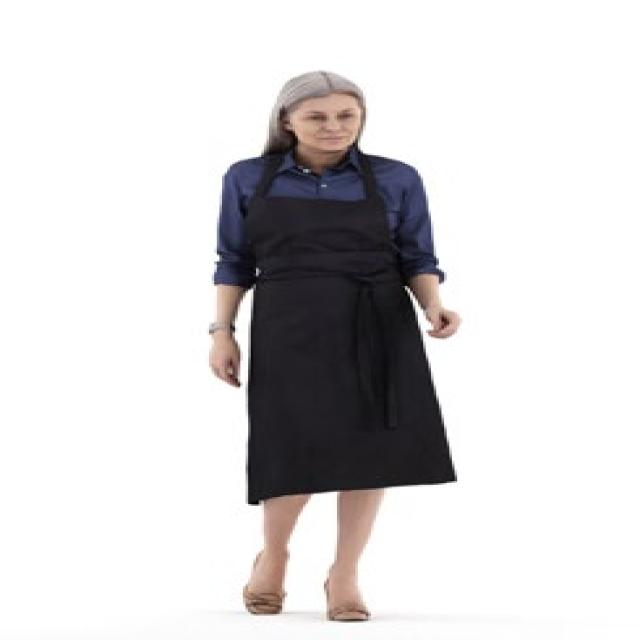standing: (196, 67, 458, 619)
